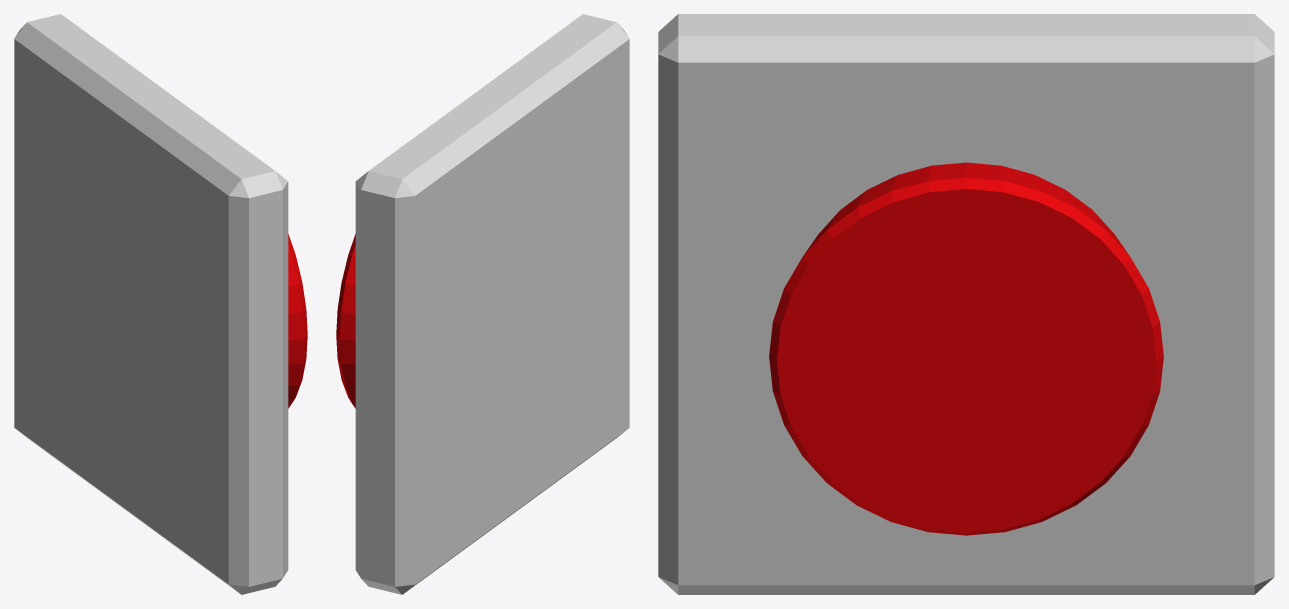
Rendered from Button.fbx.
3 renders of one model, left to right at view 1: azimuth 30°, elevation 25°; view 2: azimuth 150°, elevation 25°; view 3: azimuth 270°, elevation 25°, orthographic. The views are drawn at different scales.
Visible parts, largest first — view 1: Button; view 2: Button; view 3: Button.
Part boxes in pixels (x1=…): Button: x1=14, y1=14, x2=307, y2=594; Button: x1=336, y1=14, x2=629, y2=594; Button: x1=658, y1=14, x2=1274, y2=594.
Size of the model in its own units: 50 by 14.57 by 50.
